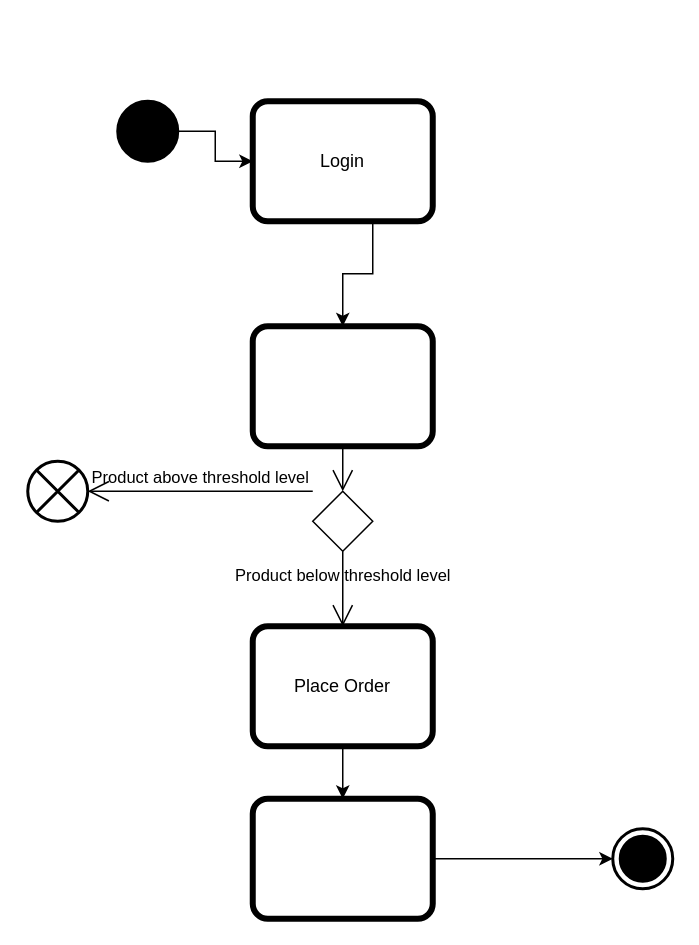
The diagram is 699 pixels wide and 945 high, and some of its shapes have lost their labels. The shapes that lost their labels are listed below. From the top down, each one's centre as x and y in pixels, then its label:
(x=342, y=385): Check Notification
(x=342, y=858): Log Out
